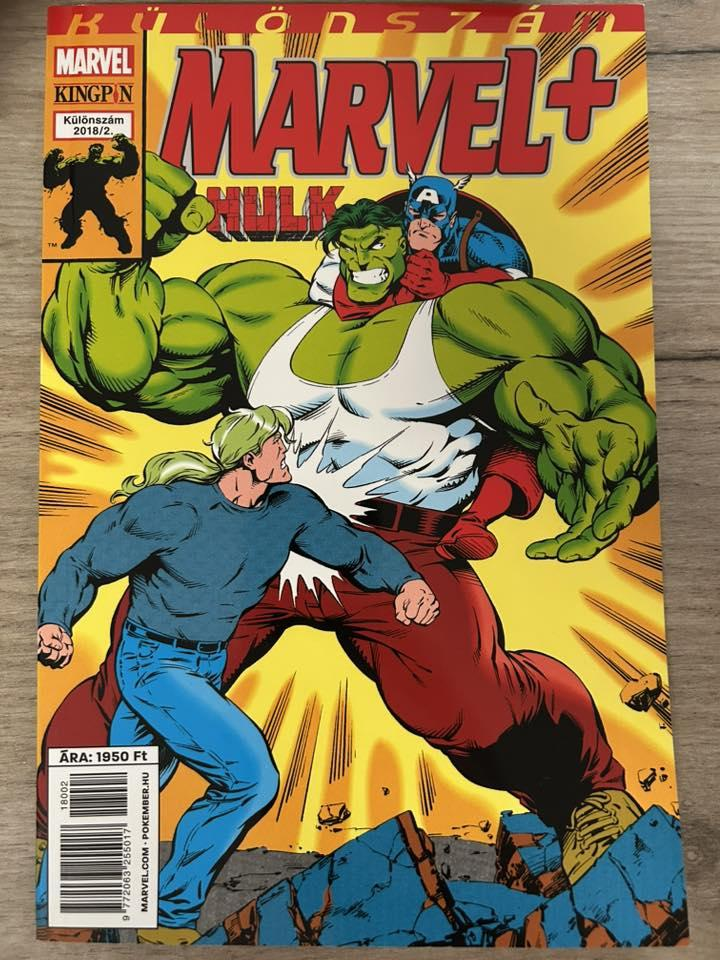comic: (37, 3, 687, 946)
